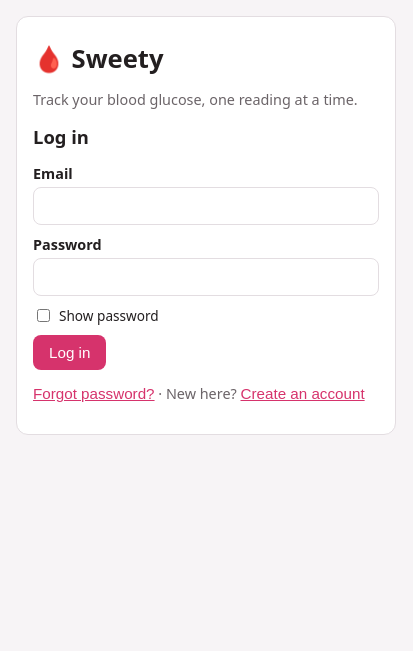
Test: signup rejects mismatched passwords
Click the button "Create an account": (303, 394) x1=240 y1=385 x2=365 y2=402
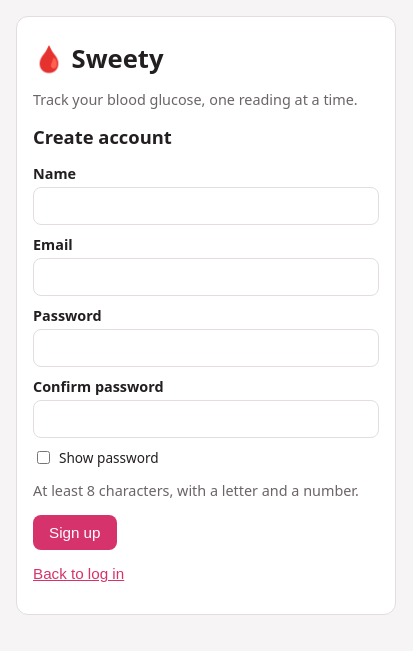
In the field labelled "Name": (206, 206) x1=33 y1=187 x2=379 y2=225, type "Asha"
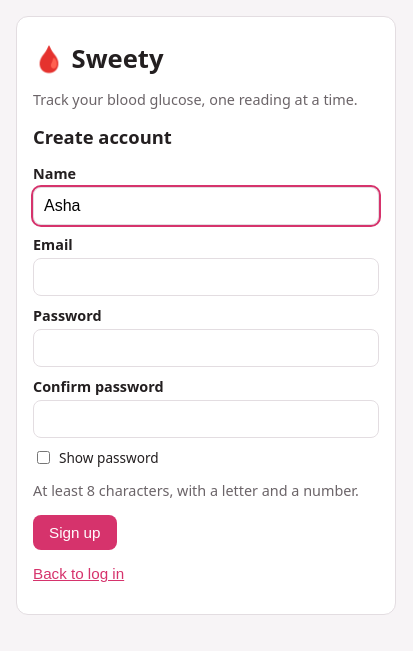
In the field labelled "Email": (206, 277) x1=33 y1=258 x2=379 y2=296, type "a@test.com"
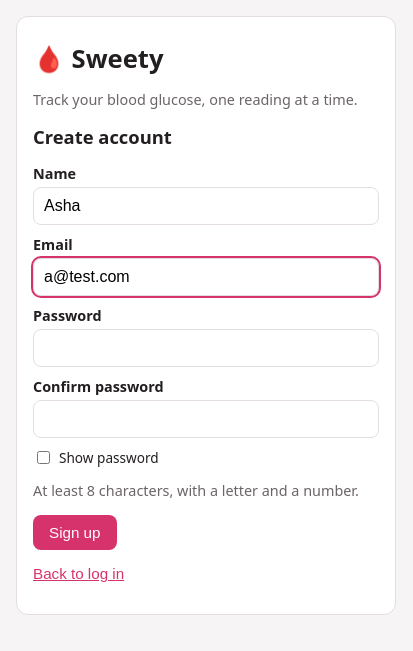
In the password field labelled "Password": (206, 348) x1=33 y1=329 x2=379 y2=367, type "password123"
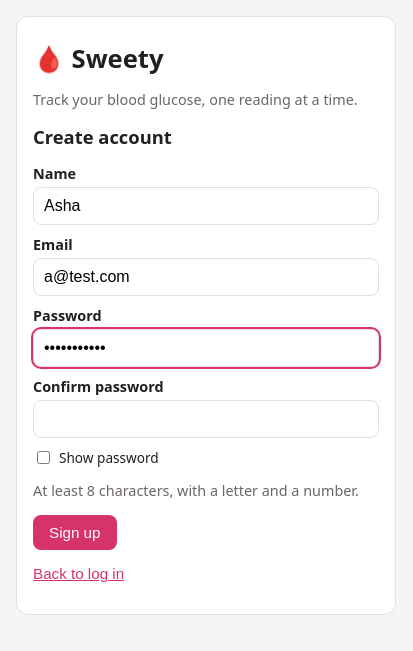
In the password field labelled "Confirm password": (206, 419) x1=33 y1=400 x2=379 y2=438, type "password124"
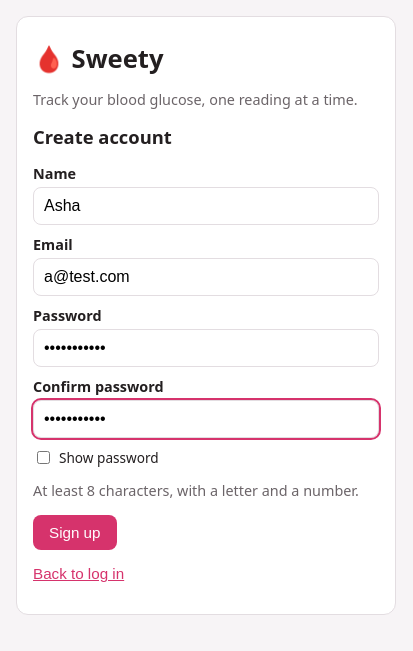
Click the button "Sign up": (75, 532) x1=33 y1=515 x2=116 y2=550
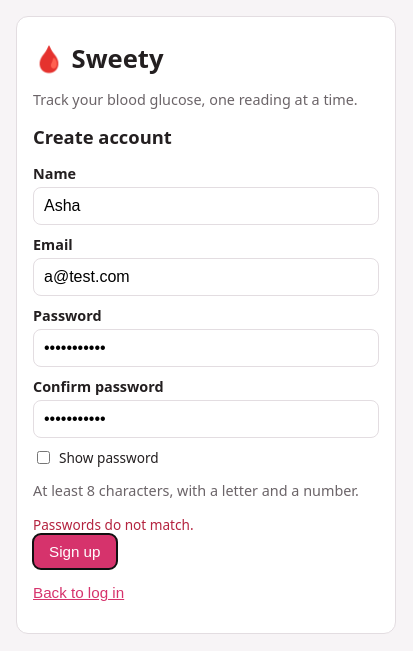
Check: the text "Passwords do not match." is shown, box x1=33 y1=515 x2=194 y2=534
